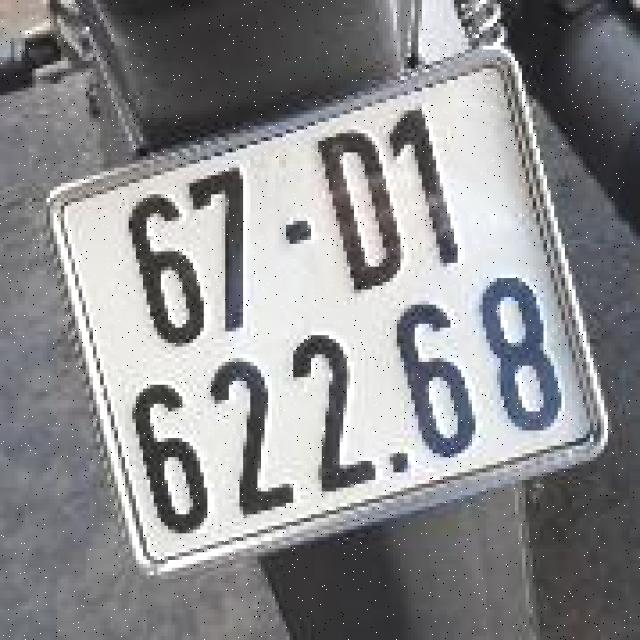1: (376, 99, 467, 279)
2: (199, 343, 309, 529), (278, 324, 383, 502)
6: (378, 291, 493, 470), (116, 367, 223, 550), (111, 181, 216, 359)
7: (182, 157, 284, 338)
8: (467, 262, 572, 441)
D: (305, 118, 416, 304)
